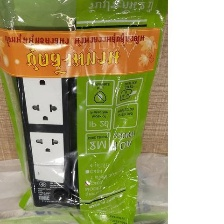three_eye_plug: (8, 24, 87, 211)
